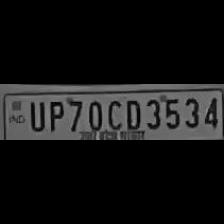0: (84, 97, 103, 130)
3: (182, 96, 200, 128), (144, 96, 160, 130)
4: (200, 94, 220, 130)
5: (162, 94, 180, 130)
7: (65, 97, 83, 133)
C: (104, 96, 122, 130)
D: (122, 96, 142, 130)
P: (45, 97, 65, 132)
U: (26, 99, 46, 131)
